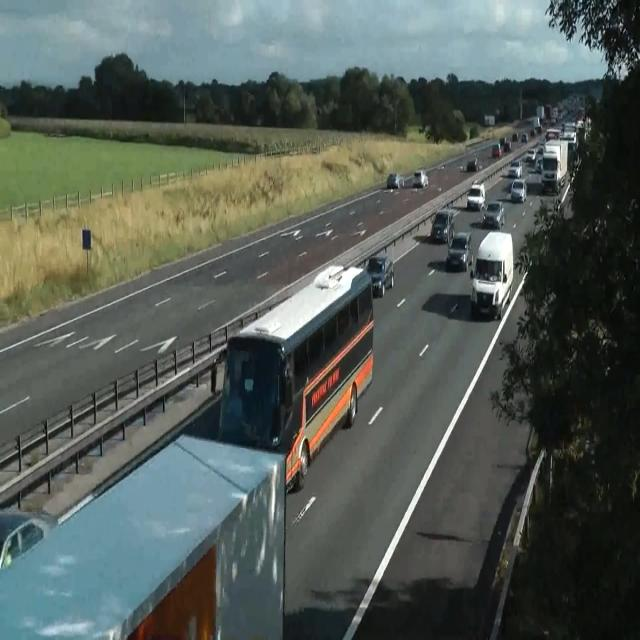bus: (0, 508, 57, 570), (365, 253, 393, 298), (386, 172, 404, 190), (412, 170, 428, 188), (500, 136, 510, 152), (467, 158, 478, 172), (534, 156, 542, 173), (437, 163, 446, 170), (521, 132, 527, 142), (512, 132, 518, 142)
car: (0, 261, 374, 637), (216, 262, 374, 492)
jeep: (469, 230, 514, 319), (446, 230, 472, 271), (430, 207, 456, 243), (540, 152, 558, 191), (481, 201, 505, 228), (467, 181, 485, 210), (510, 178, 526, 202), (508, 158, 522, 177), (492, 142, 502, 158)
minibus: (0, 433, 286, 639), (541, 139, 569, 193), (484, 114, 494, 126)
